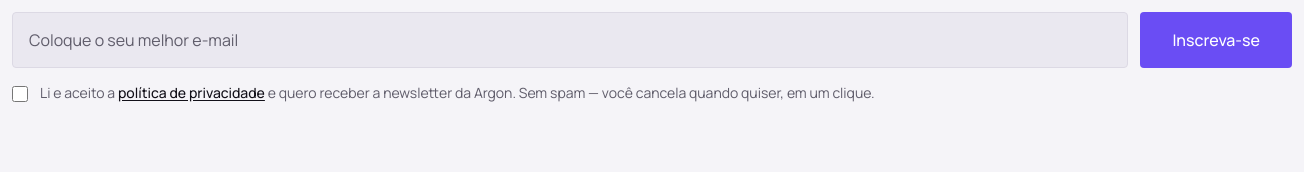
Test case: NewsletterForm › keeps the form and shows the unexpected error when the action fails
In the field named "Seu e-mail": x=570, y=40 [12,12,1128,68], type "ana@example.com"
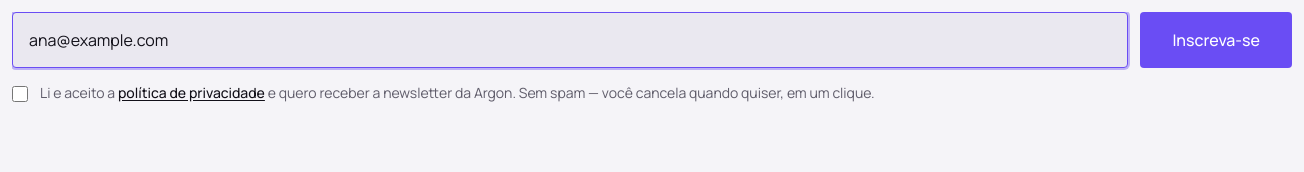
Click the checkbox: x=20, y=94 [12,86,28,102]
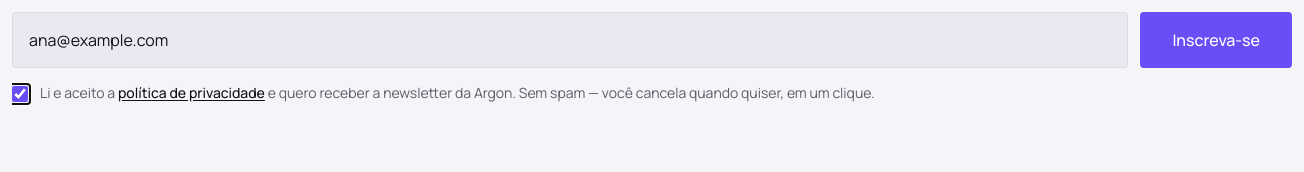
Click the button "Inscreva-se": x=1216, y=40 [1140,12,1292,68]
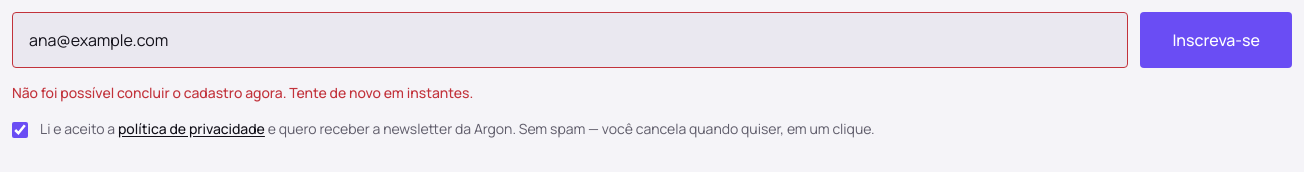
expect the message reads "Não foi possível concluir o cadastro agora. Tente de novo em instantes.": met, box [12,84,473,103]
